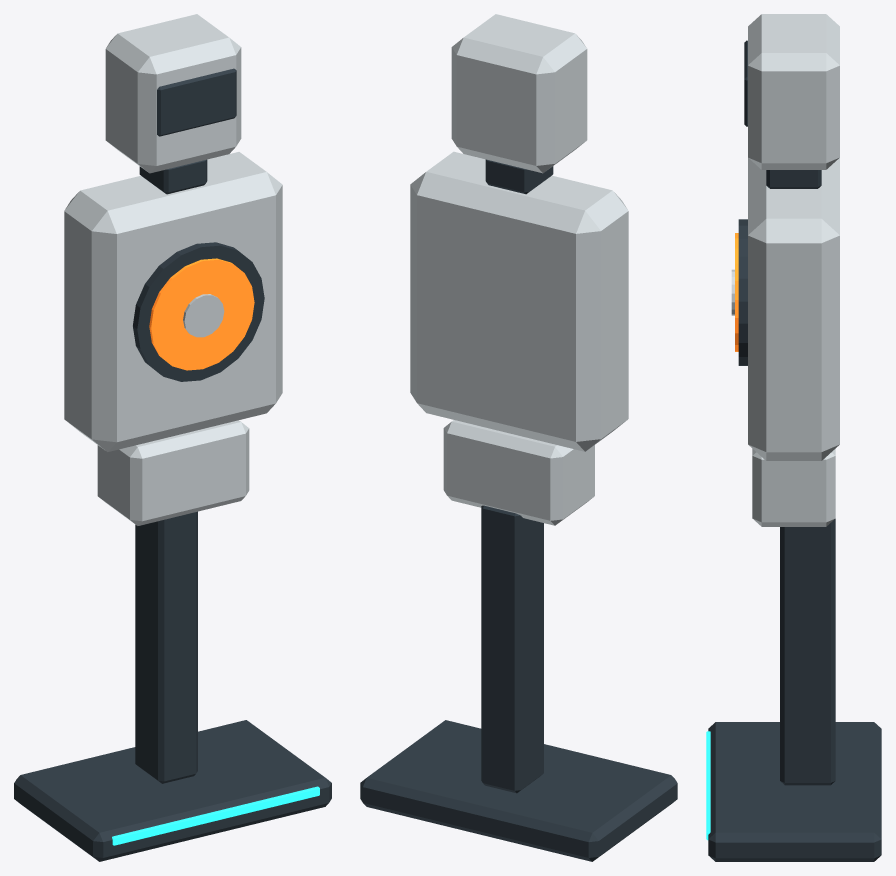
Rendered from SM_TS_TrainingTarget.fbx.
3 views of the same model, side by side, from view 1: azimuth 30°, elevation 25°; view 2: azimuth 150°, elevation 25°; view 3: azimuth 270°, elevation 25° (orthographic).
Visible parts, largest first — view 1: SM_TS_TrainingTarget; view 2: SM_TS_TrainingTarget; view 3: SM_TS_TrainingTarget.
Part boxes in pixels (x1,y1,x2,y2): SM_TS_TrainingTarget: (14,14,331,861); SM_TS_TrainingTarget: (360,14,677,861); SM_TS_TrainingTarget: (706,14,881,861).
Bounding box in the file's own units: 60 × 38 × 185.
